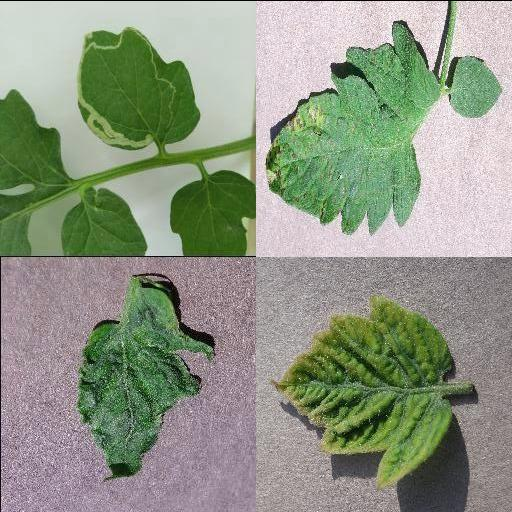Healthy: (449, 54, 501, 116)
Leaf Miner: (76, 28, 202, 151)
Mosaic Virus: (76, 288, 216, 486)
Septoria: (264, 20, 438, 235)
Yellow Leaf Curl Virus: (270, 295, 454, 483)
